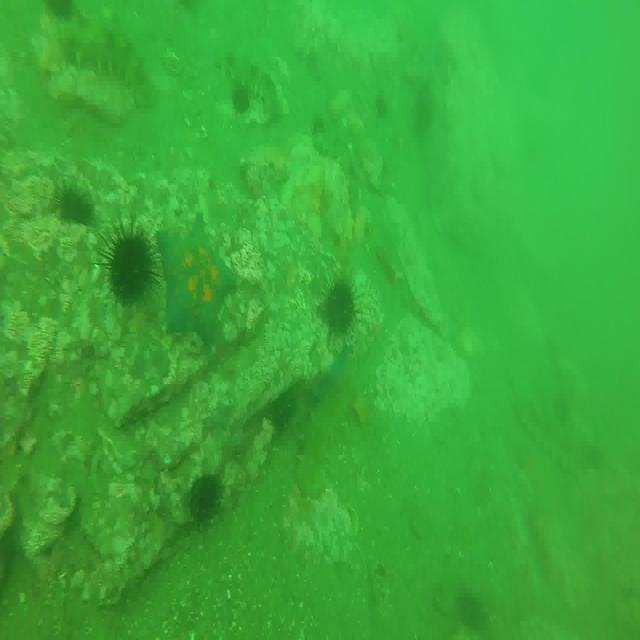echinus: (105, 225, 156, 306), (322, 278, 356, 344), (54, 188, 93, 232), (190, 478, 222, 529), (274, 386, 297, 432), (232, 79, 254, 118)
holothurian: (298, 364, 350, 499), (68, 22, 152, 102), (515, 394, 571, 474), (313, 125, 356, 184), (252, 64, 281, 120)
starfish: (158, 204, 237, 346)
